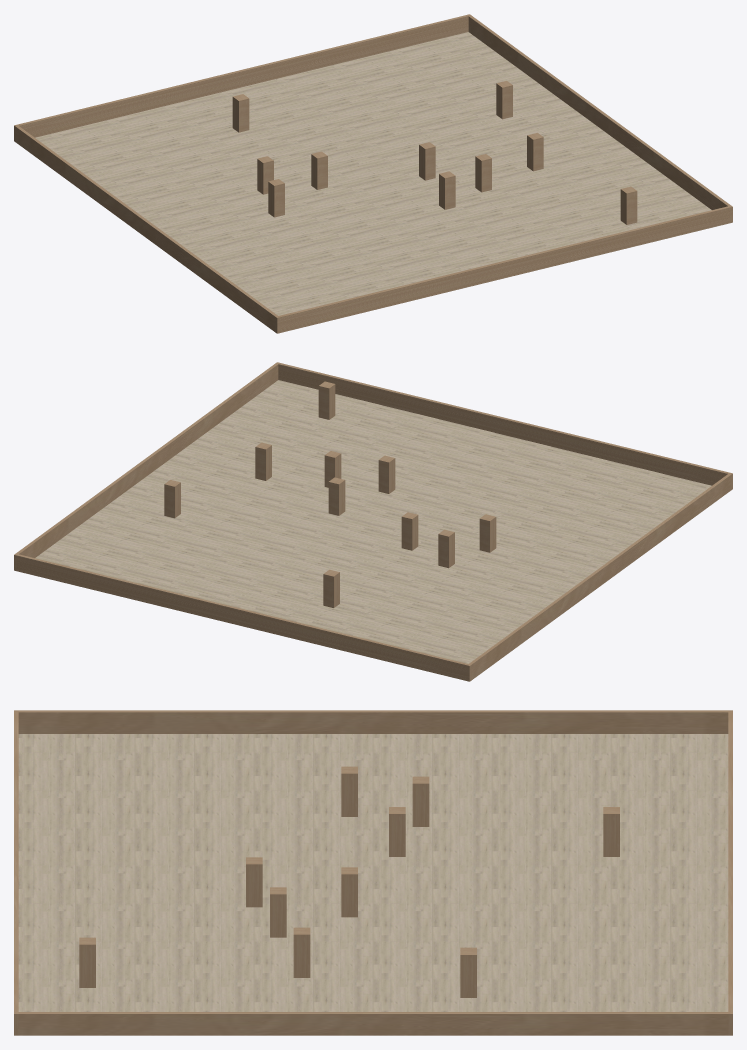
Rendered from floor.glb.
3 views of the same model, one above another, from view 1: azimuth 30°, elevation 25°; view 2: azimuth 150°, elevation 25°; view 3: azimuth 270°, elevation 25° (orthographic). The views are drawn at different scales.
Visible parts, largest first — view 1: ground, wall_1, wall, wall_2, wall_3, wall1, wall9, wall2, wall6, wall0, wall7, wall3 (+3 smaller); view 2: ground, wall, wall_1, wall_2, wall_3, wall1, wall6, wall0, wall2, wall7, wall3, wall4 (+3 smaller); view 3: ground, wall_2, wall_3, wall, wall_1, wall3, wall4, wall0, wall1, wall2, wall5, wall6 (+3 smaller).
Part boxes in pixels (box(x1,y1,x2,y2)): ground: box(35, 32, 711, 315); wall_1: box(275, 206, 732, 333); wall: box(14, 14, 471, 141); wall_2: box(14, 124, 280, 333); wall_3: box(468, 14, 732, 223); wall1: box(620, 186, 637, 224); wall9: box(232, 94, 249, 132); wall2: box(419, 142, 435, 180); wall6: box(439, 171, 455, 209); wall0: box(268, 179, 284, 217); wall7: box(311, 151, 327, 189); wall3: box(527, 133, 543, 171); ground: box(35, 380, 711, 663); wall: box(14, 553, 471, 681); wall_1: box(276, 362, 732, 489); wall_2: box(466, 472, 732, 681); wall_3: box(14, 363, 278, 571); wall1: box(318, 381, 335, 419); wall6: box(378, 455, 395, 493); wall0: box(479, 514, 496, 552); wall2: box(328, 477, 345, 515); wall7: box(401, 512, 418, 550); wall3: box(255, 442, 271, 480); wall4: box(438, 529, 454, 568); ground: box(18, 734, 728, 1011); wall_2: box(14, 710, 732, 733); wall_3: box(14, 1012, 732, 1035); wall: box(728, 710, 732, 1035); wall_1: box(14, 710, 18, 1035); wall3: box(293, 927, 310, 977); wall4: box(412, 776, 429, 826); wall0: box(341, 766, 357, 816); wall1: box(79, 937, 95, 987); wall2: box(341, 867, 357, 917); wall5: box(460, 947, 476, 997); wall6: box(246, 857, 262, 907).
Bounding box in the file's own units: 30.2 × 2 × 30.2.
2 materials, 2 textured.
